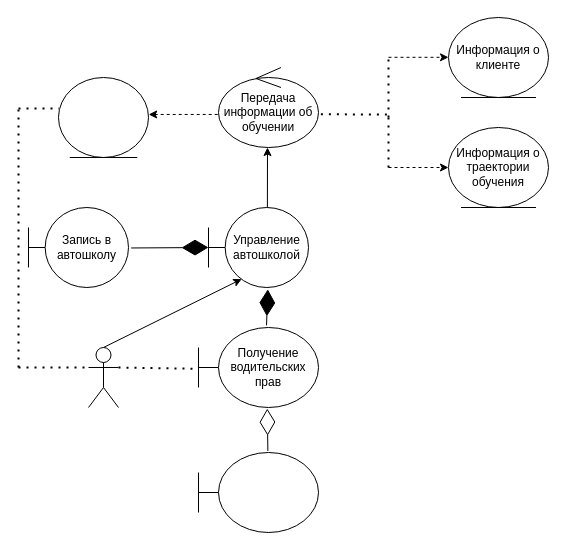
Image size: 566x550. Some labels were removed from this diagram. Here are the shapes that lost their labels. From the top down, the centre of each, then its label:
[103,117]: Информация о персонале
[103,377]: Клиент
[258,492]: Сдача теории и практики
